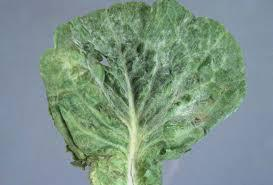Bok-Choy-Diseased: (35, 0, 247, 185)
